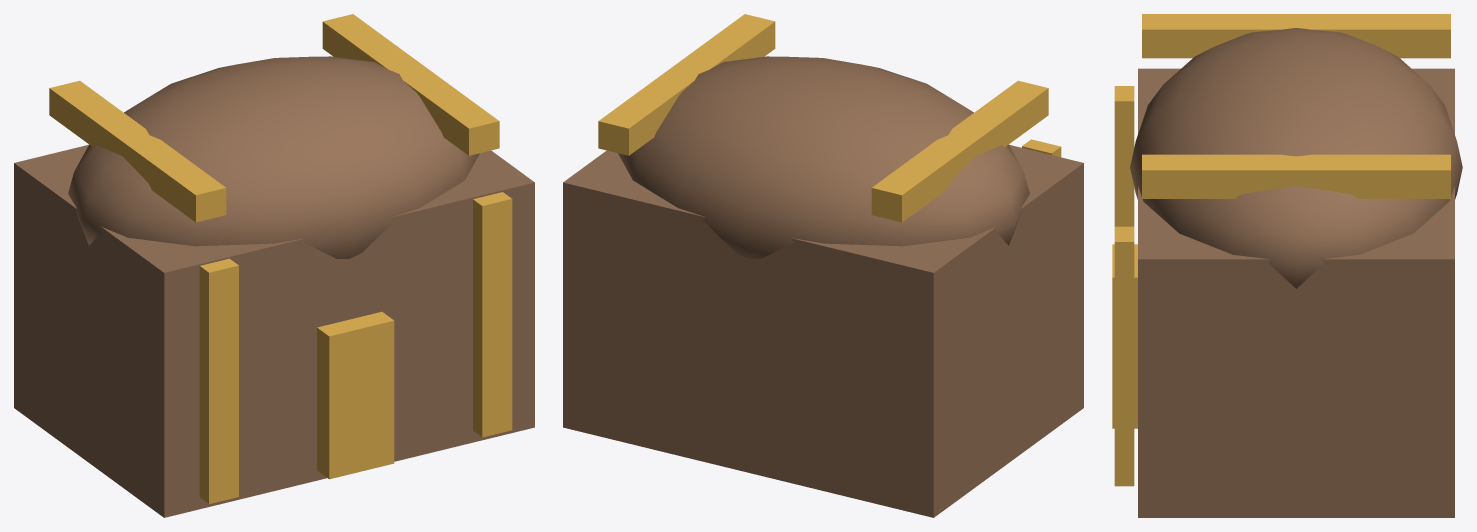
The model's file is field-chest.glb.
3 views of the same model, side by side, from view 1: azimuth 30°, elevation 25°; view 2: azimuth 150°, elevation 25°; view 3: azimuth 270°, elevation 25° (orthographic). The views are drawn at different scales.
Visible parts, largest first — view 1: welcome-chest, lid; view 2: welcome-chest, lid; view 3: welcome-chest, lid.
Part boxes in pixels (<box>): welcome-chest: <box>14,144,534,517</box>; lid: <box>49,14,499,258</box>; welcome-chest: <box>563,139,1083,517</box>; lid: <box>598,14,1048,258</box>; welcome-chest: <box>1112,68,1454,517</box>; lid: <box>1130,14,1462,288</box>.
Bounding box in the file's own units: 0.59 × 0.495 × 0.4425.
